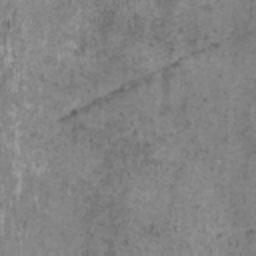Finishing roll printing: (59, 38, 228, 125)
